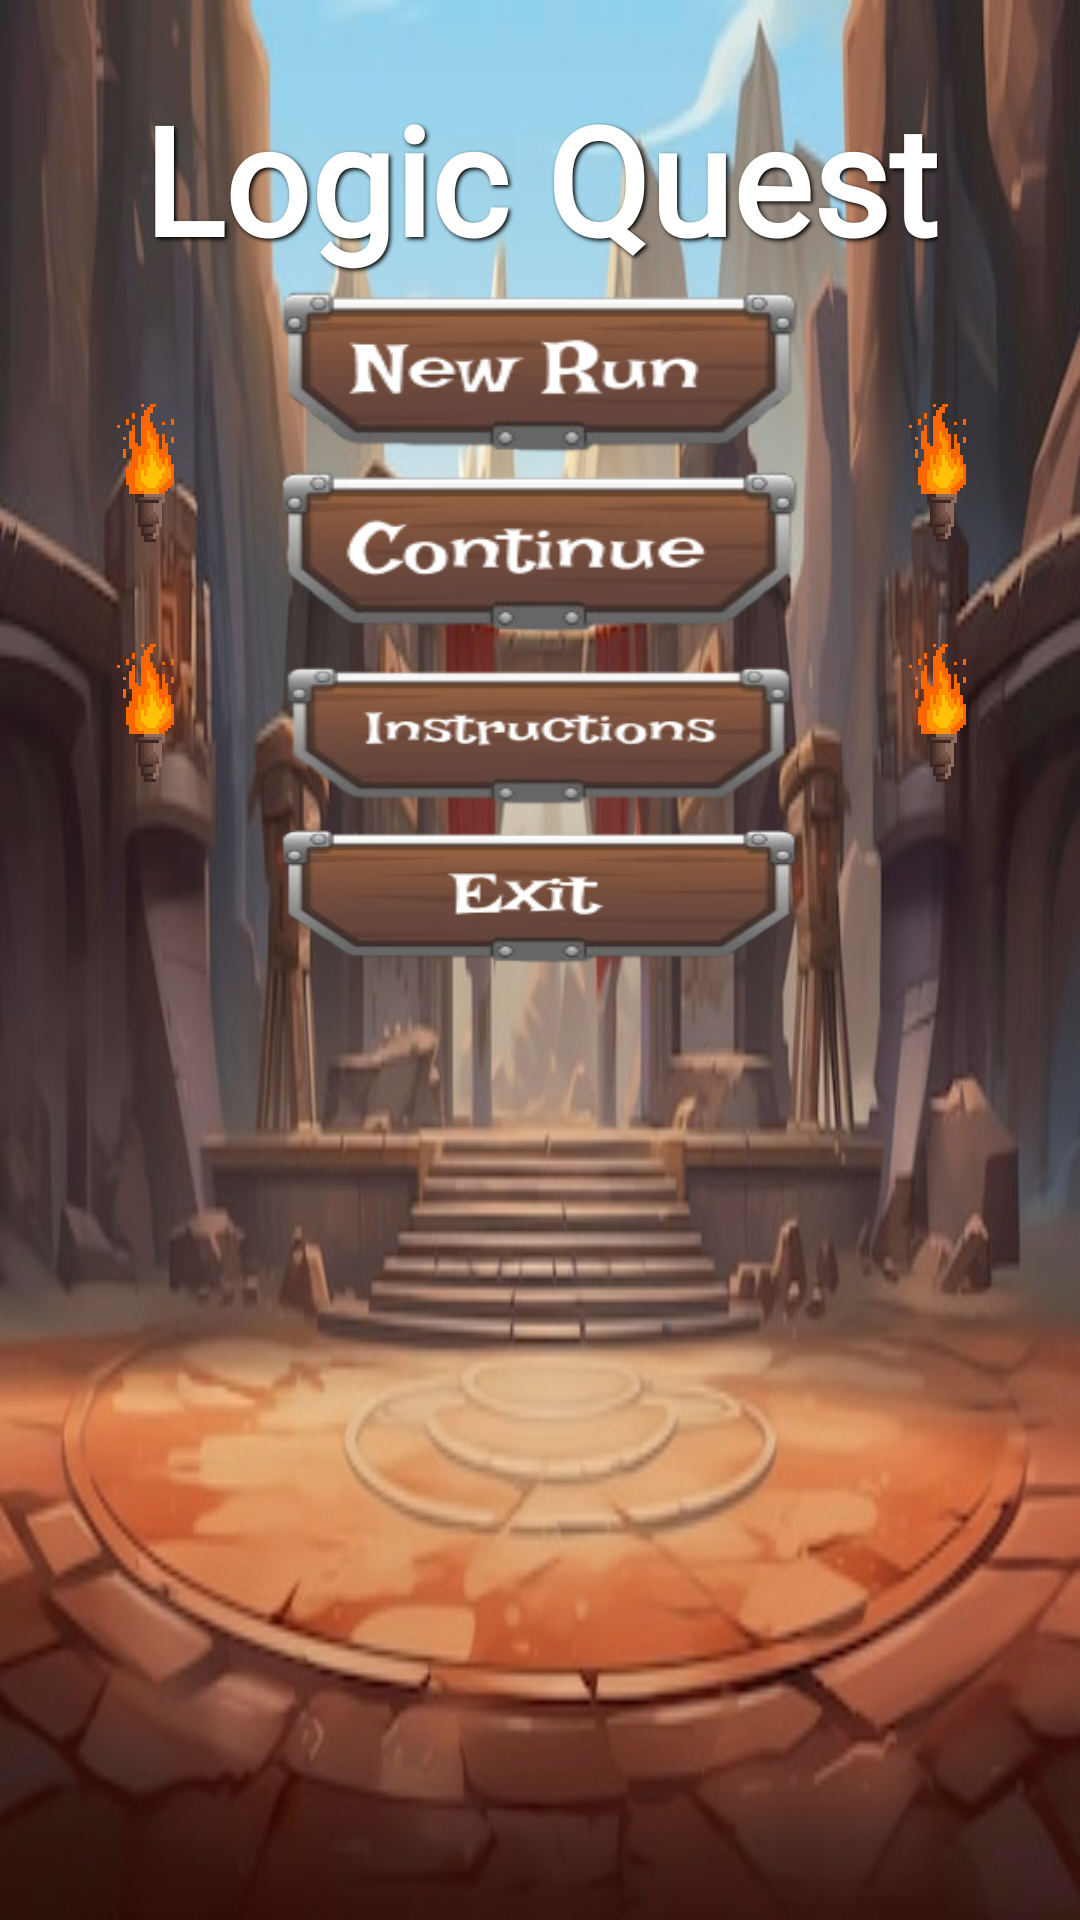

Icons on this 1080w x 1920h Android screen, each with the point to tap as (x=x, y=y):
Torch Left: (x=144, y=479), (x=936, y=479), (x=154, y=719), (x=936, y=719)
